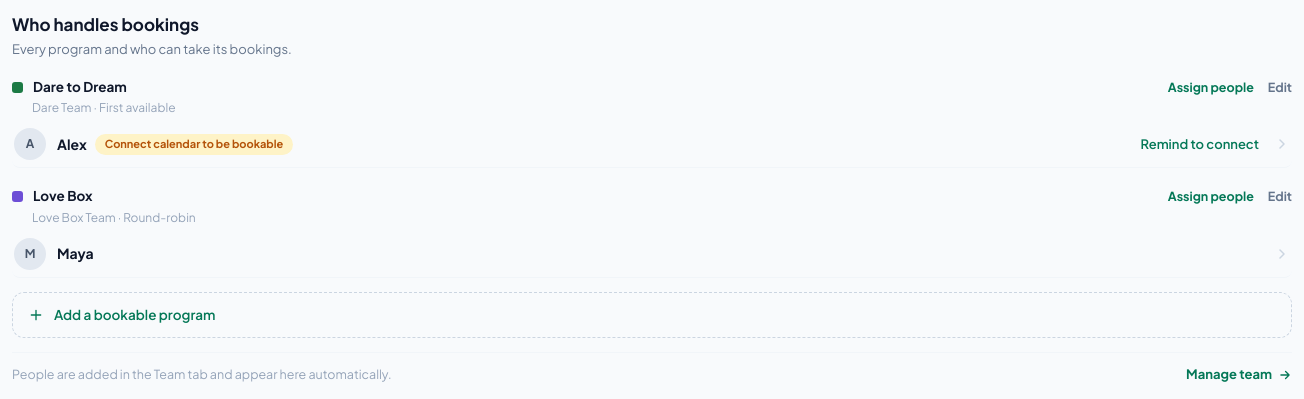
Scenario: StaffSchedulingSection — admin (Who handles bookings) › remind-to-connect flips the row to the sent state
Expected: the text "Alex" is shown, [57, 134, 87, 155]
Click the button "Remind to connect": point(1200, 144) [1141, 134, 1259, 154]
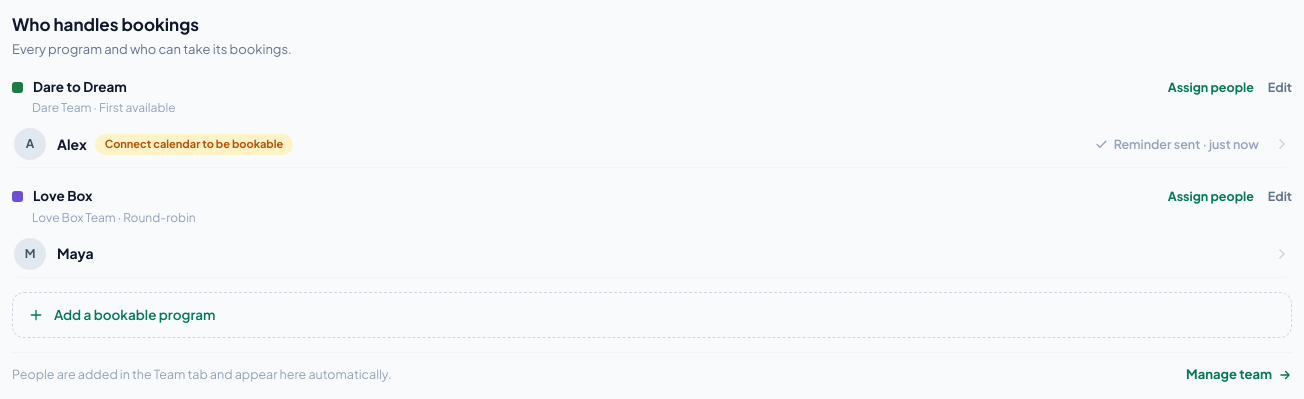
Now the text "Reminder sent · just now" is shown, box [1095, 135, 1259, 154]
Now the button "Remind to connect" is gone
